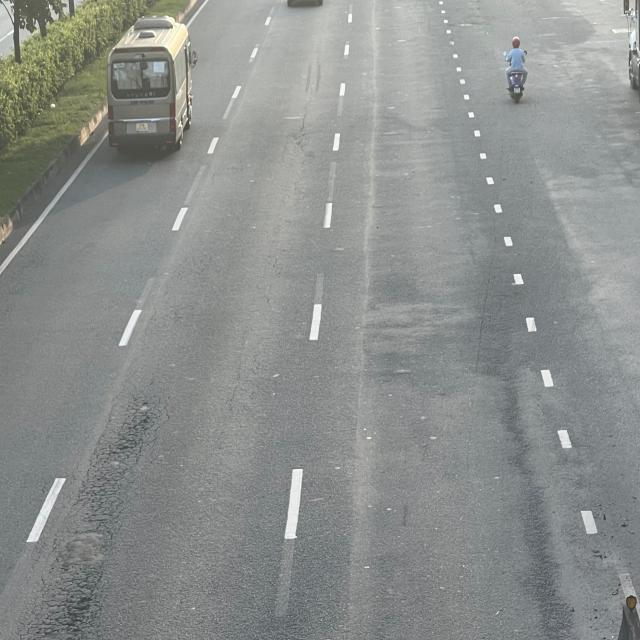coach: (108, 17, 197, 153)
